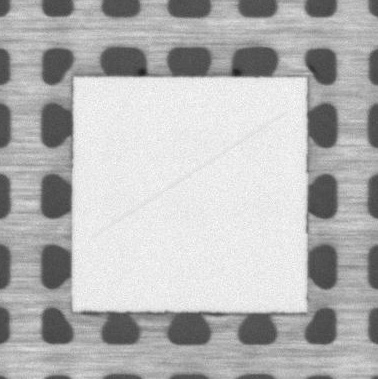DIE_CRACK: (94, 112, 285, 237)
